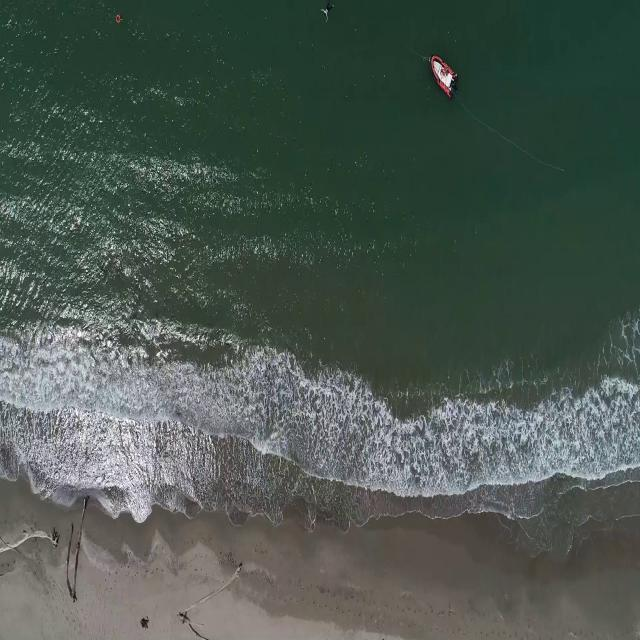boat: (431, 55, 458, 100)
life_buoy: (114, 14, 123, 26)
person: (321, 1, 334, 26)
wood: (176, 565, 243, 616), (67, 496, 88, 608), (0, 528, 63, 552), (177, 611, 227, 640)
